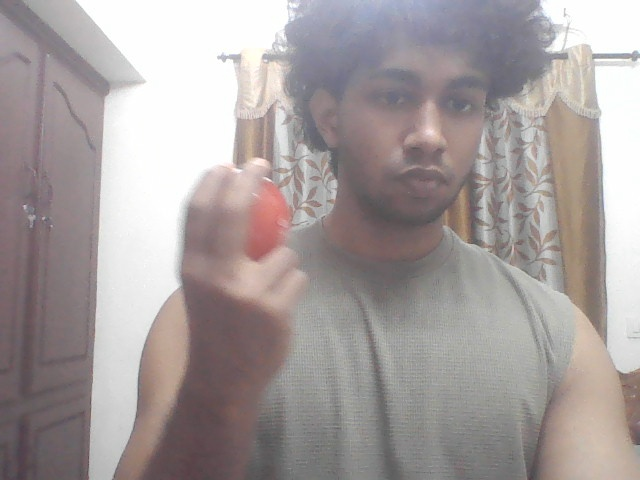cricket_ball: (230, 173, 295, 267)
